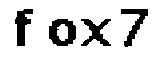7: (115, 4, 151, 51)
f: (11, 5, 38, 53)
o: (45, 17, 77, 51)
x: (79, 17, 111, 51)
